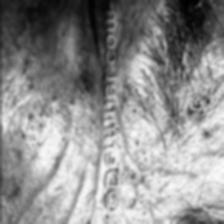Non-Cancerous Skin Condition: (11, 36, 49, 154), (124, 92, 154, 221), (58, 42, 100, 126), (184, 80, 218, 120)
